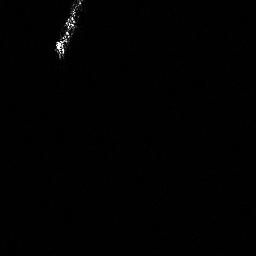ship: (51, 1, 87, 63)
